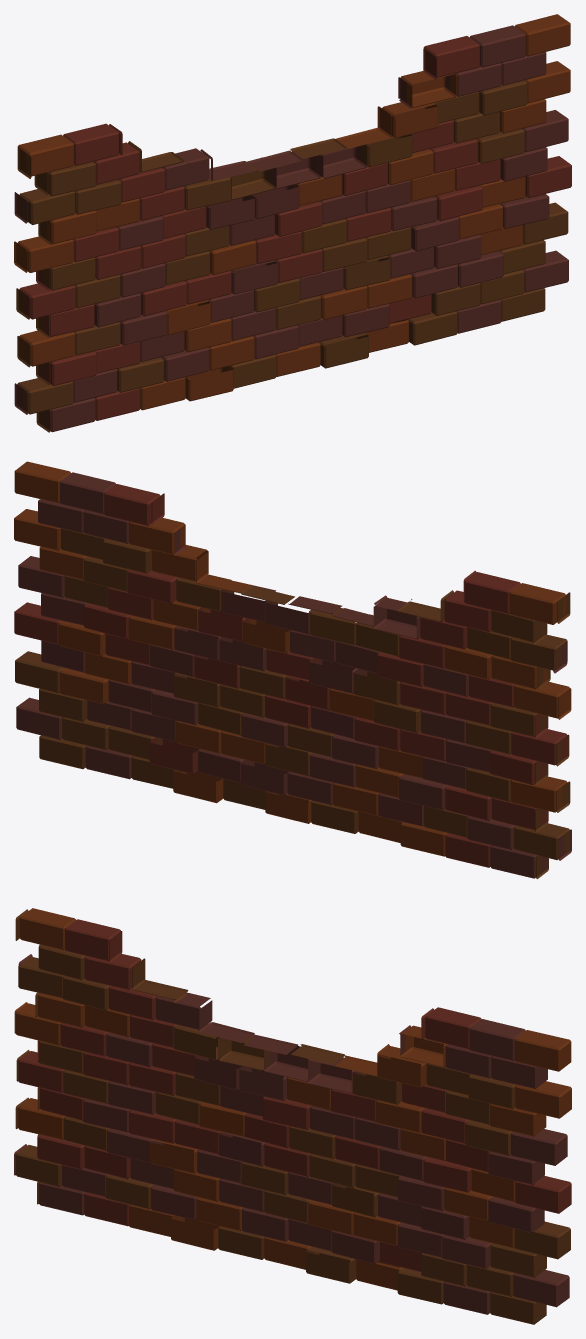
The model's file is BrickWall.fbx.
3 renders of one model, top to bottom at view 1: azimuth 30°, elevation 25°; view 2: azimuth 150°, elevation 25°; view 3: azimuth 330°, elevation 25°, orthographic.
Visible parts, largest first — view 1: Cube; view 2: Cube; view 3: Cube.
Part boxes in pixels (x1,y1,x2,y2): Cube: (14,14,571,432); Cube: (14,461,571,879); Cube: (14,908,571,1324).
Size of the model in its own units: 774 by 384 by 46.18.
